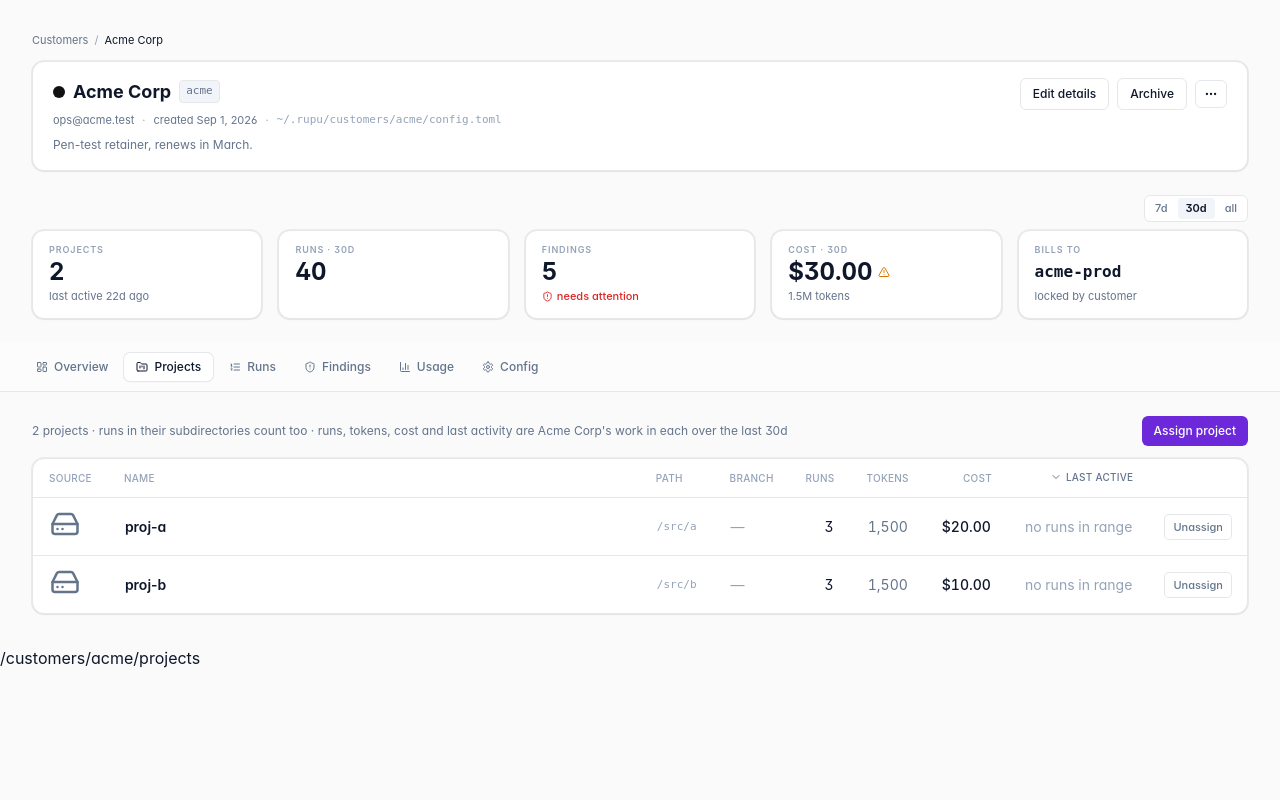
Test: CustomerDetail projects tab › Assign project opens the dialog; assigning refetches
Check: the text "proj-a" is shown, box [125,518,166,535]
Click the button "Assign project" at (1195, 431), box [1142,416,1248,446]
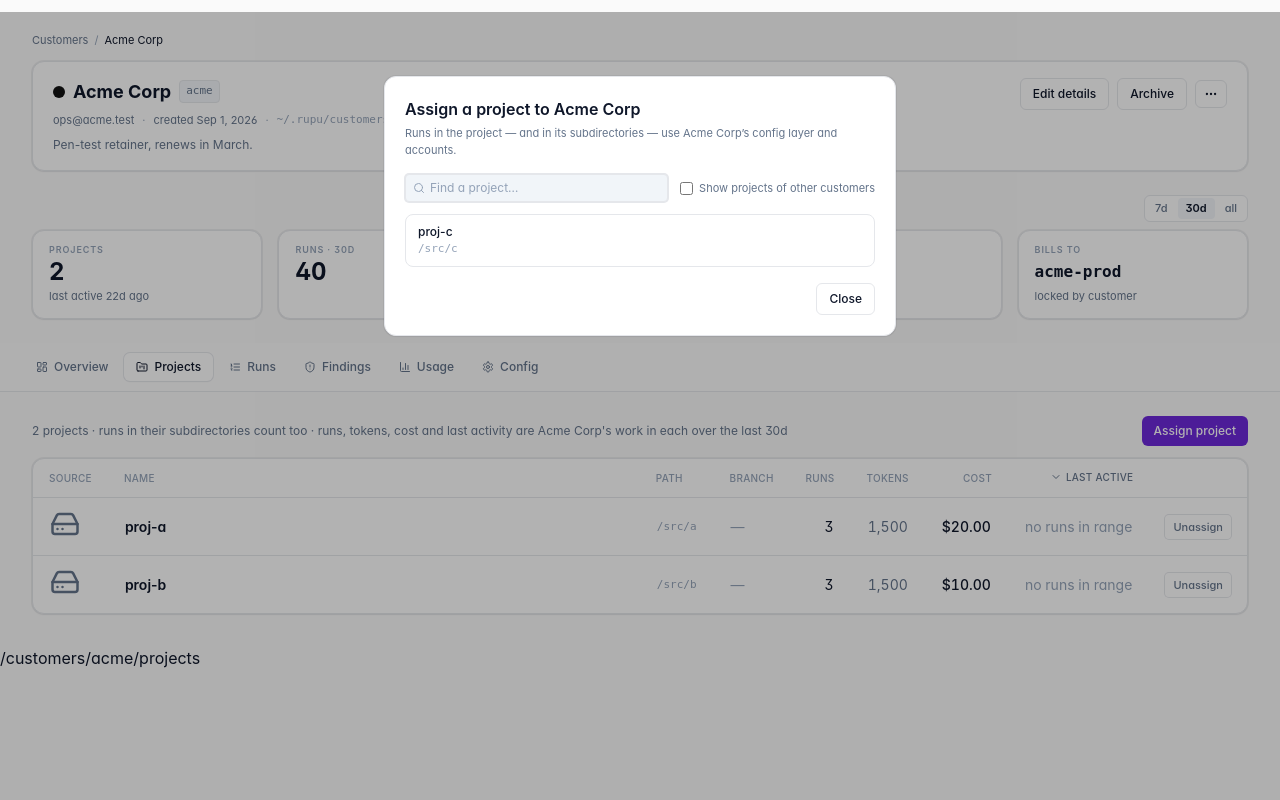
Click the button "proj-c /src/c" at (435, 232), box [406,215,874,266]
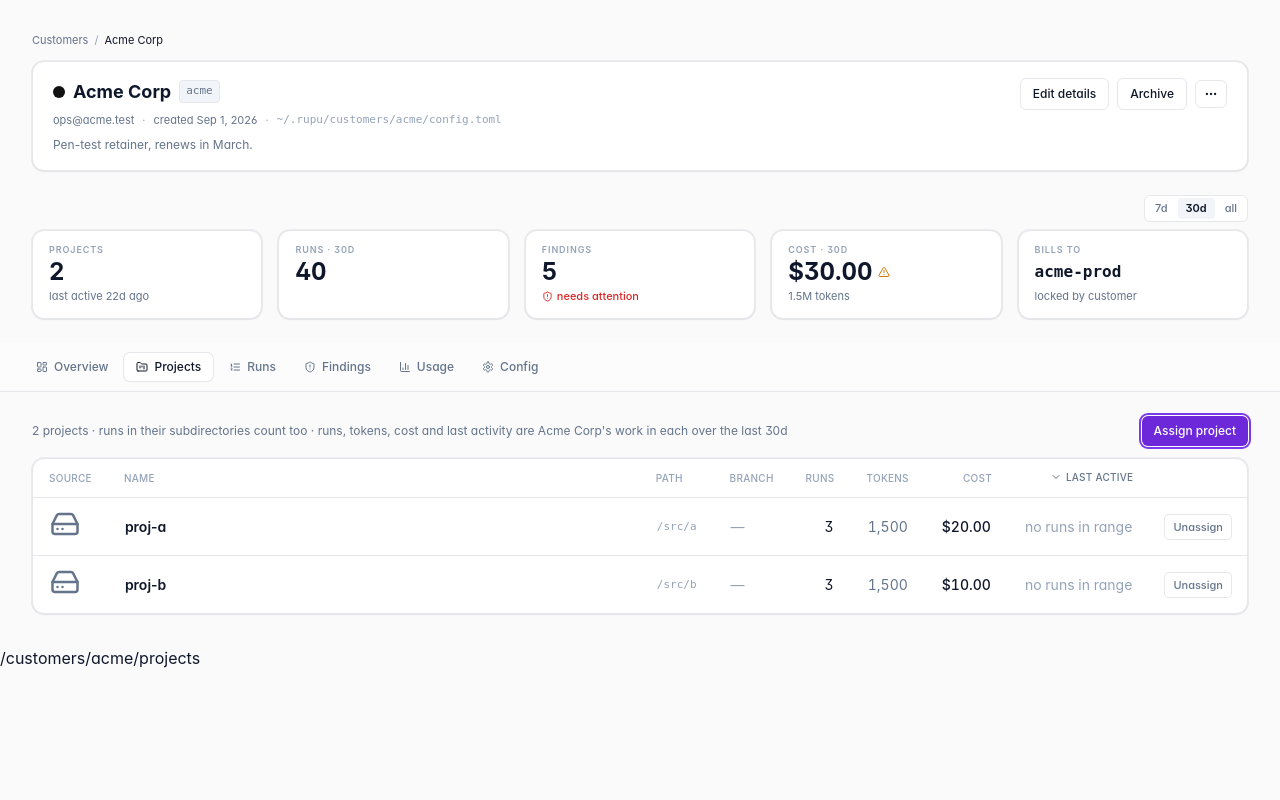
Check: the dialog is gone
